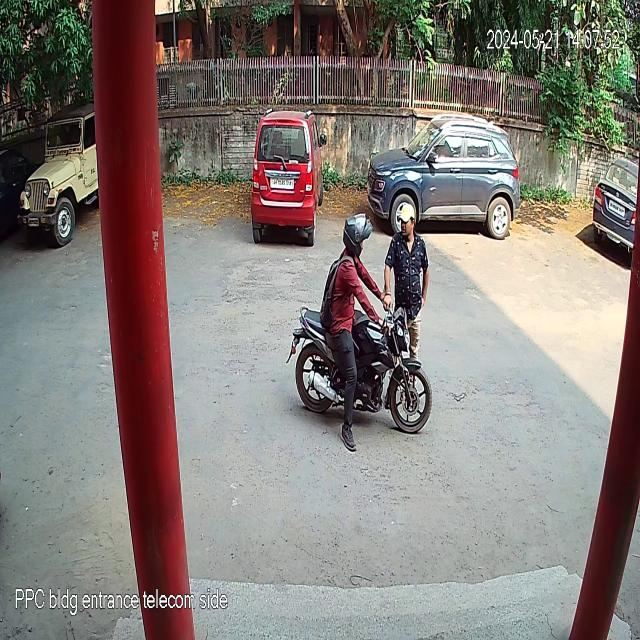NO-Boots: (339, 416, 360, 454)
NO-Hardhat: (341, 209, 376, 260), (391, 198, 420, 243)
